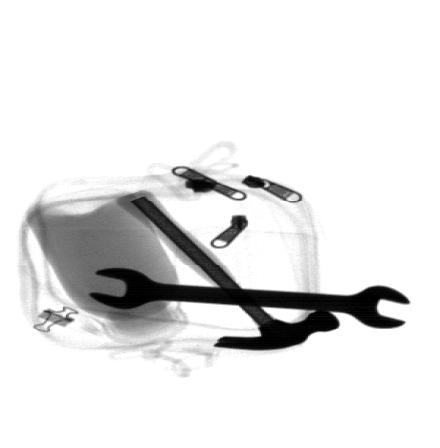Hammer: (116, 188, 340, 350)
Wrench: (84, 268, 412, 329)
